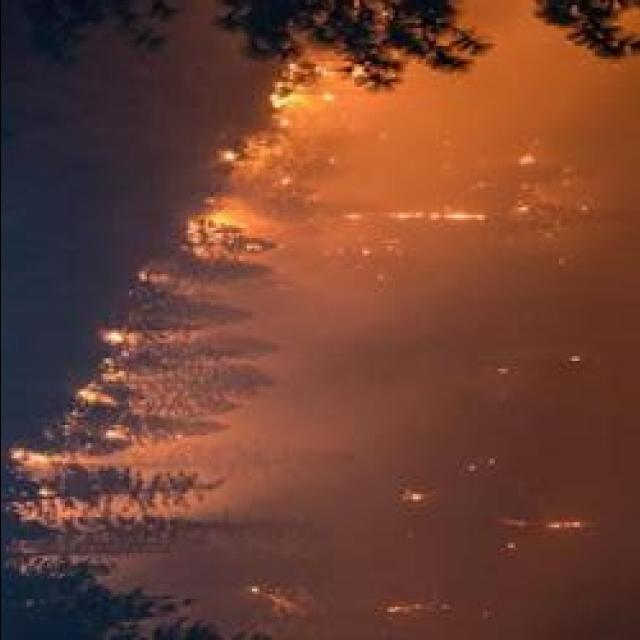fire: (8, 444, 50, 468), (260, 86, 300, 110), (215, 214, 235, 228), (104, 330, 120, 346)
smoke: (312, 328, 450, 400), (504, 65, 632, 123), (262, 292, 338, 344)
